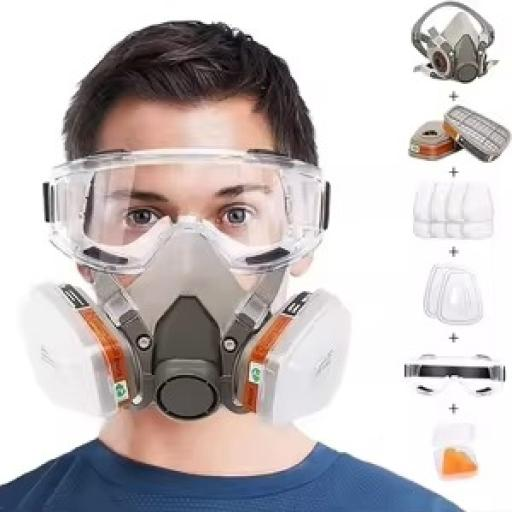mask: (19, 148, 353, 428)
